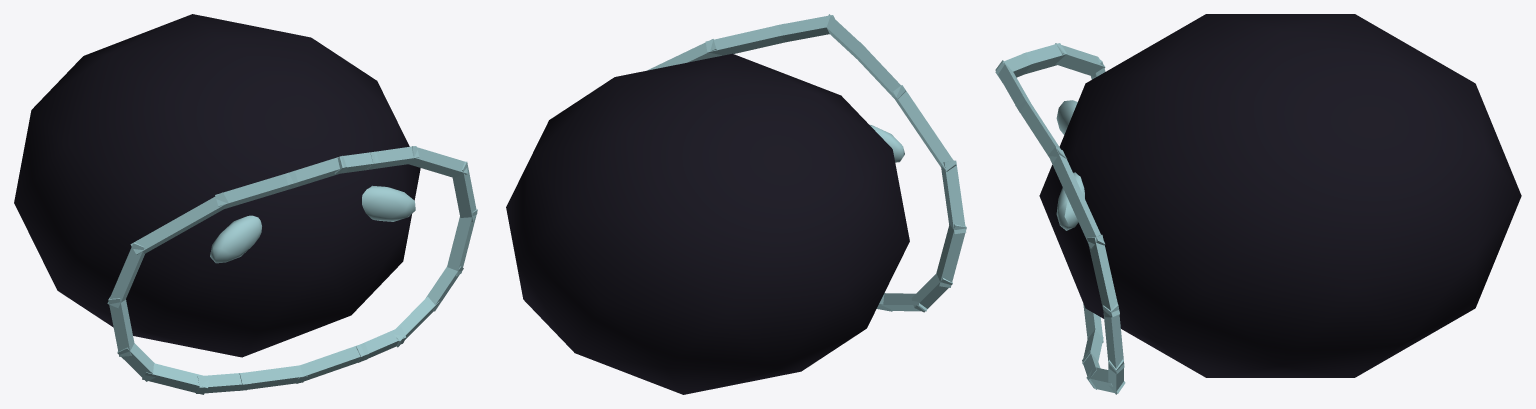
Rendered from vey_head.fbx.
The picture shows the model from 3 angles, left to right: view 1: azimuth 30°, elevation 25°; view 2: azimuth 150°, elevation 25°; view 3: azimuth 270°, elevation 25°; orthographic projection. The views are drawn at different scales.
Parts seen in each view (by area): view 1: vey_head; view 2: vey_head; view 3: vey_head.
Boxes of the visible parts, bbox=[...] form: vey_head: bbox=[14, 14, 477, 394]; vey_head: bbox=[506, 14, 966, 394]; vey_head: bbox=[995, 14, 1521, 394].
Size of the model in its own units: 0.9725 by 0.74 by 1.07.
